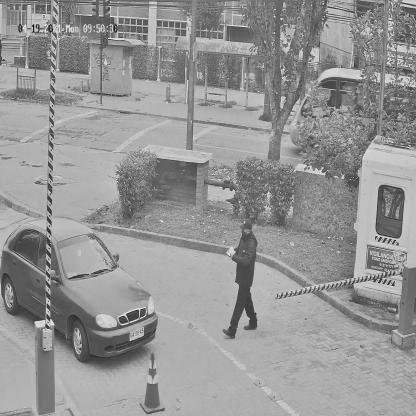Patente: (129, 326, 145, 345)
